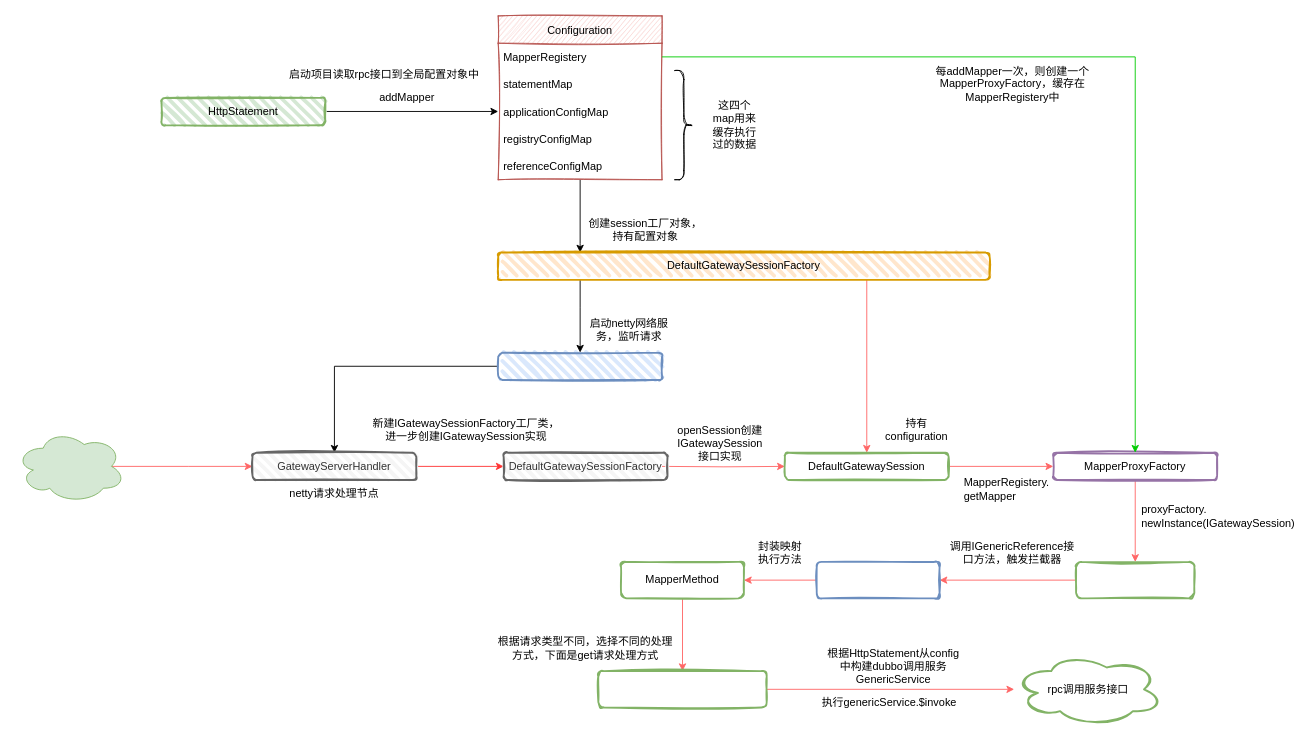
The diagram is 1311 pixels wide and 743 high, and some of its shapes have lost their labels. Here are the shapes that lost their labels. From the top down, the centre of each, then its label:
At (579,365): "GatewaySocketServer".
At (70,466): "网络请求".
At (877,580): "MapperProxy".
At (1135,580): "IGenericReference接口的cglib代理对象".
At (682,689): "DefaultGatewaySession.get()".
